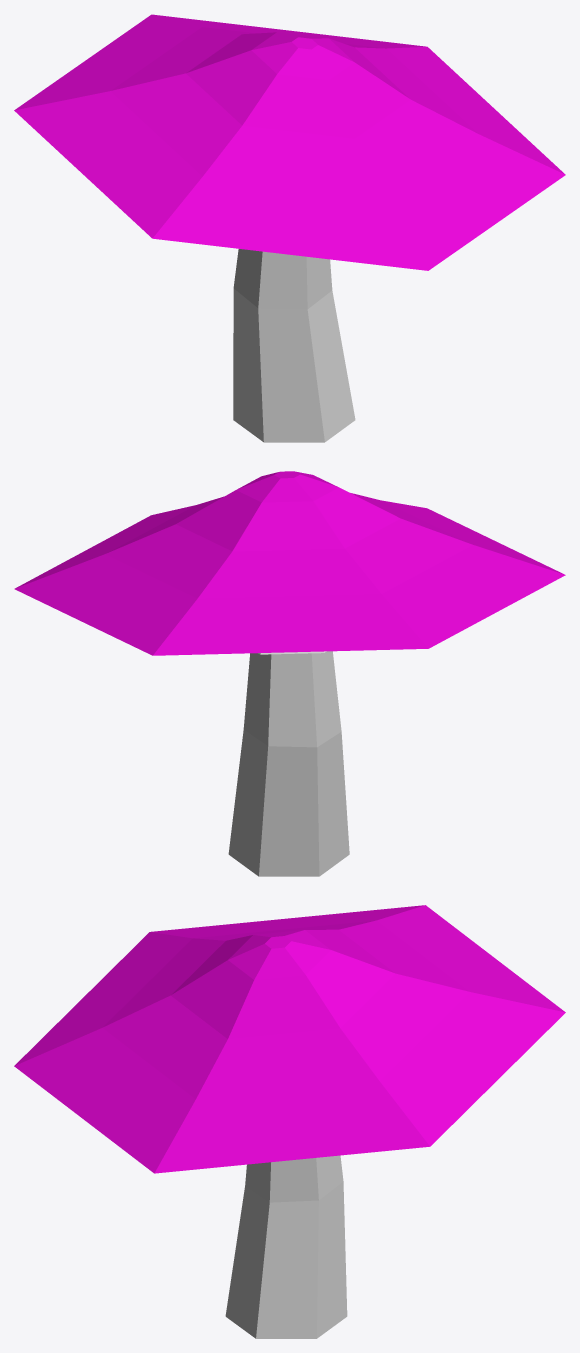
File: cozy_mushroom_1.fbx
3 views of the same model, one above another, from view 1: azimuth 30°, elevation 25°; view 2: azimuth 150°, elevation 25°; view 3: azimuth 270°, elevation 25° (orthographic).
Parts seen in each view (by area): view 1: Cone.001, Cone; view 2: Cone.001, Cone; view 3: Cone.001, Cone.
Part boxes in pixels (x1,y1,x2,y2): Cone.001: [14, 14, 565, 270]; Cone: [233, 249, 355, 442]; Cone.001: [14, 471, 565, 655]; Cone: [228, 651, 349, 876]; Cone.001: [14, 905, 565, 1173]; Cone: [225, 1155, 347, 1338].
Bounding box in the file's own units: 240 × 209 × 276.
